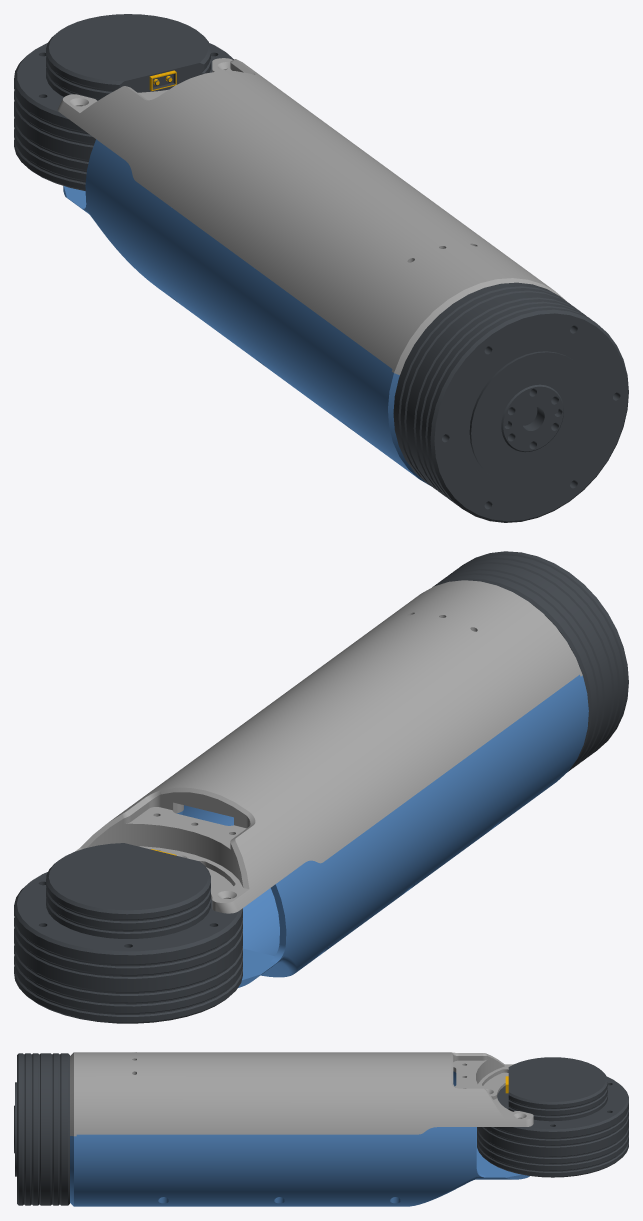
File: l_upper_arm_link.dae
3 views of the same model, one above another, from view 1: azimuth 30°, elevation 25°; view 2: azimuth 150°, elevation 25°; view 3: azimuth 270°, elevation 25° (orthographic). The views are drawn at different scales.
Visible parts, largest first — view 1: AK60-6V1-1 (×2), arm_upper_link_mirror, upper_arm_cover_mirror; view 2: arm_upper_link_mirror, AK60-6V1-1 (×2), upper_arm_cover_mirror; view 3: arm_upper_link_mirror, upper_arm_cover_mirror, AK60-6V1-1 (×2).
Boxes of the visible parts, left/top/right/bottom form: AK60-6V1-1 (×2): left=14, top=14, right=628, bottom=522; arm_upper_link_mirror: left=57, top=58, right=566, bottom=374; upper_arm_cover_mirror: left=63, top=139, right=431, bottom=486; arm_upper_link_mirror: left=75, top=580, right=582, bottom=913; AK60-6V1-1 (×2): left=14, top=551, right=628, bottom=1023; upper_arm_cover_mirror: left=177, top=674, right=588, bottom=987; arm_upper_link_mirror: left=70, top=1052, right=533, bottom=1136; upper_arm_cover_mirror: left=70, top=1071, right=529, bottom=1206; AK60-6V1-1 (×2): left=14, top=1053, right=628, bottom=1205.
Size of the model in its own units: 0.08 by 0.08 by 0.3184.
